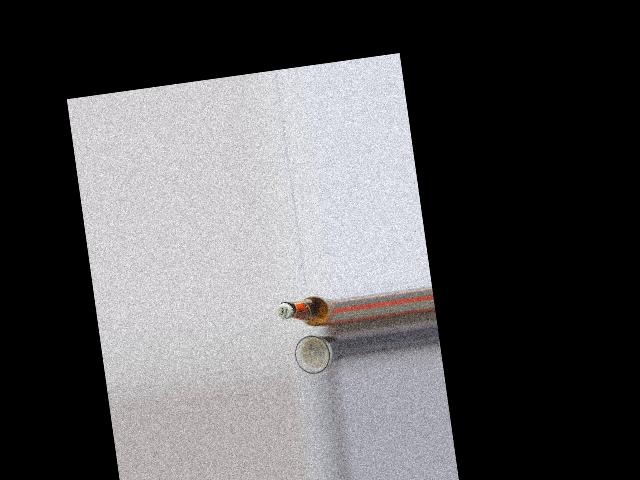beer: (276, 293, 337, 333)
